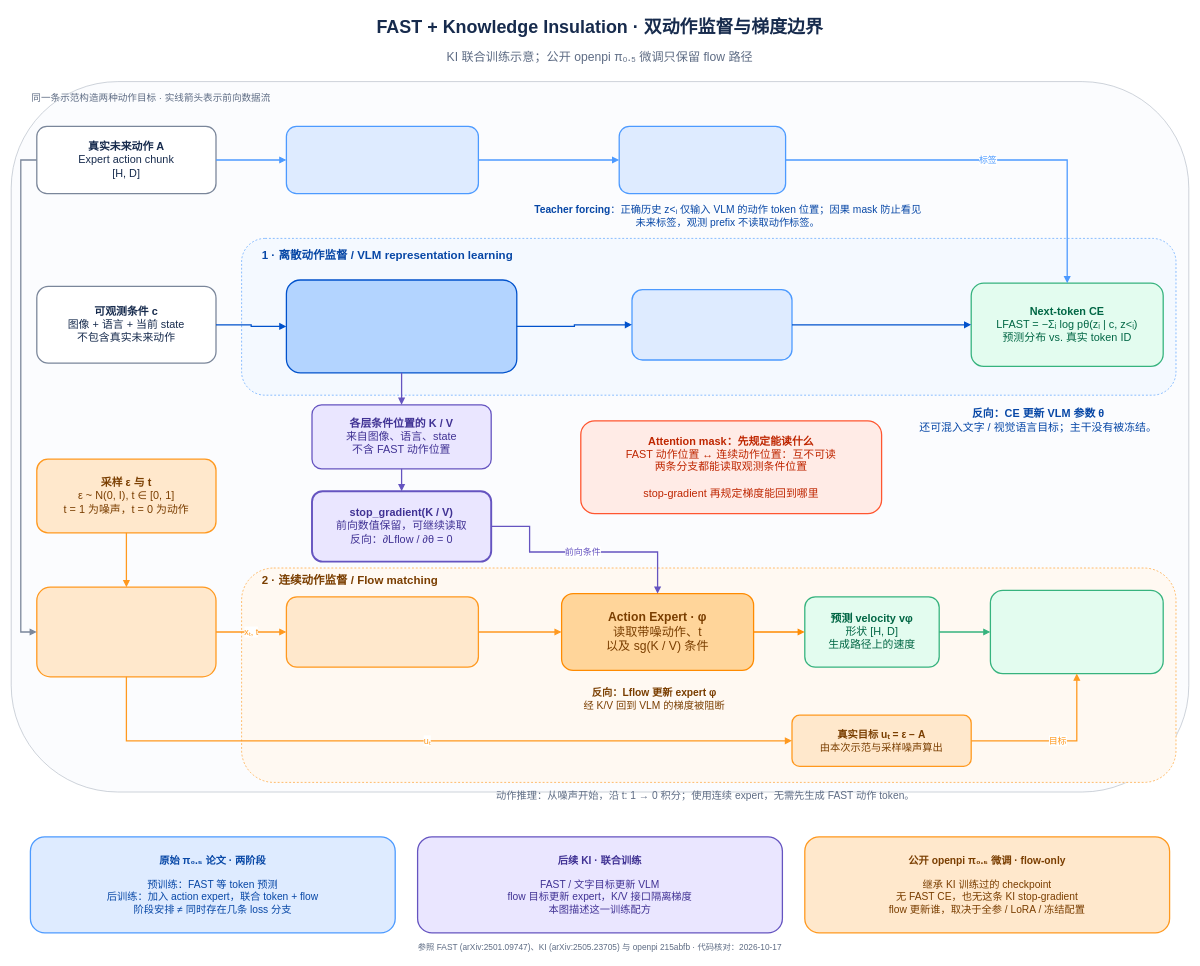
Some shapes in this 1200 by 966 pixel diagram are drawn without their labels. Here are the shapes that lost their labels. From the top down, the centre of each, then its label:
At (x=382, y=159): "FAST tokenizer DCT → 量化 → BPE 构造标签，不由 CE 反向训练".
At (x=702, y=159): "离散动作标签 z₁:K token IDs z = FAST(A)".
At (x=401, y=326): "VLM backbone · θ 图像编码器 + 语言主干 条件位置 + 离散动作位置".
At (x=711, y=324): "预测动作 logits pθ(zᵢ | c, z<ᵢ) 词表上的条件分布".
At (x=126, y=631): "由 A、ε、t 构造监督 带噪动作：xₜ = (1−t)A + tε 目标速度：uₜ = ε − A".
At (x=382, y=632): "Noisy action xₜ + timestep t 动作投影 + 时间嵌入 连续 action hidden positions".
At (x=1076, y=631): "Flow matching loss Lflow = MSE(vφ, uₜ) 预测速度 vs. 目标速度".
